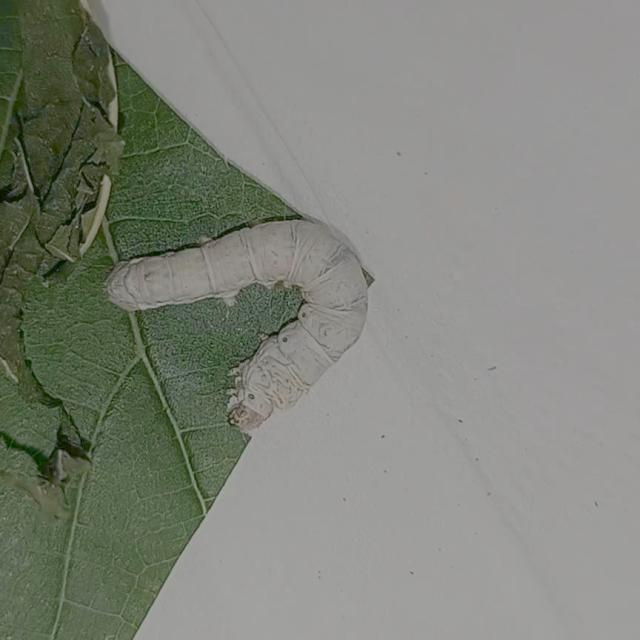Healthy: (98, 193, 390, 455)
